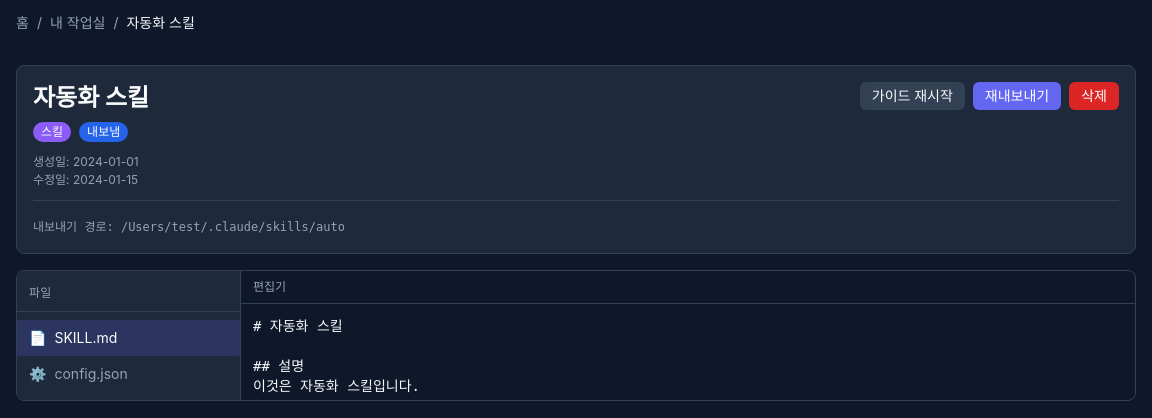
Test: WorkDetail › 다른 파일을 클릭하면 해당 파일의 내용을 로드한다
The image size is (1152, 418).
Check: the text box showing "자동화 스킬" is shown, box [241,304,1135,400]
Click second file
Click the button "⚙️ config.json": (128, 374) [17,356,240,392]
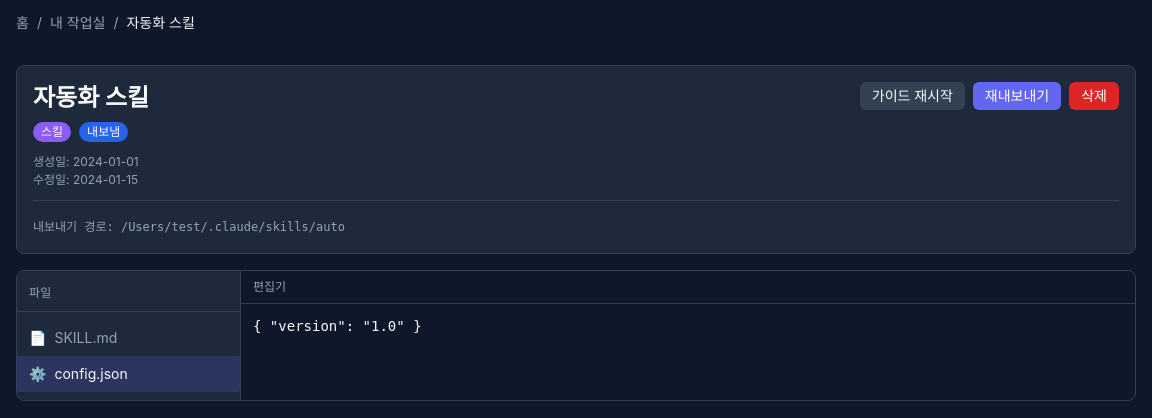
Check: the text box showing "version" is shown, box [241,304,1135,400]
